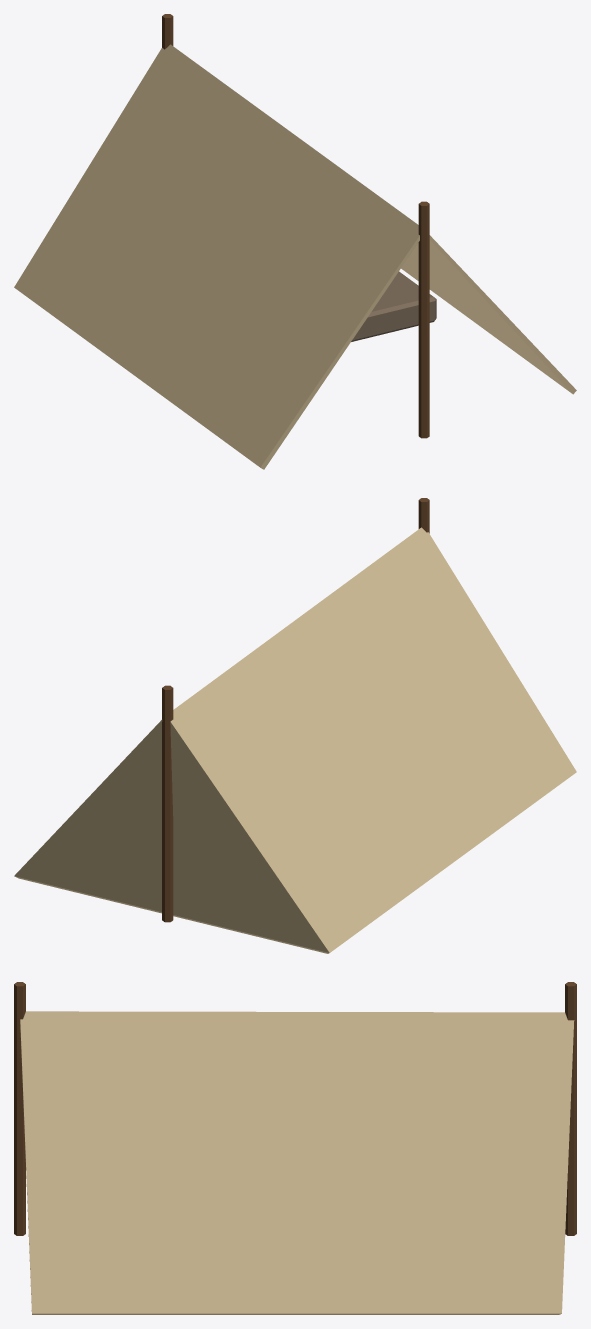
File: tent.glb
3 renders of one model, top to bottom at view 1: azimuth 30°, elevation 25°; view 2: azimuth 150°, elevation 25°; view 3: azimuth 270°, elevation 25°, orthographic. The views are drawn at different scales.
Parts seen in each view (by area): view 1: tent, Cone, Cube; view 2: tent, Cone.001; view 3: tent, Cone, Cone.001.
Part boxes in pixels (x1,y1,x2,y2): tent: (14,44,576,469); Cone: (418,201,429,438); Cube: (351,271,436,341); tent: (14,527,576,953); Cone.001: (162,685,173,922); tent: (20,1011,574,1314); Cone: (14,982,25,1235); Cone.001: (565,982,576,1235).
Bounding box in the file's own units: 3.28 × 2.3 × 4.7.
